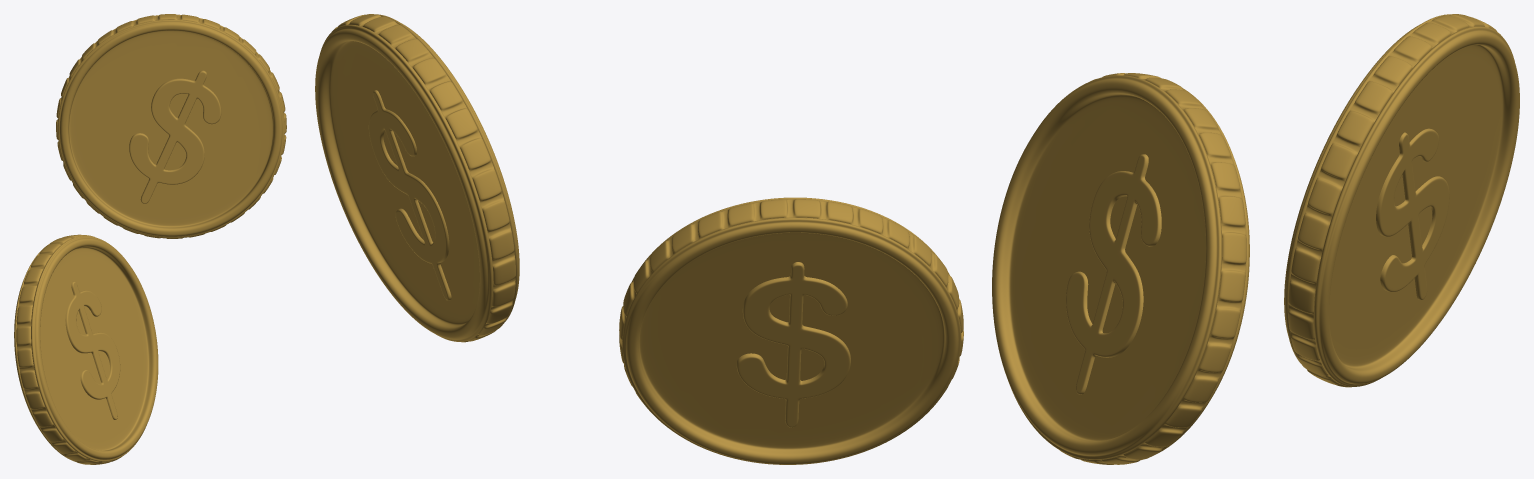
Rendered from two-coins-animated-3d-icon-465746645149.glb.
The picture shows the model from 3 angles, left to right: view 1: azimuth 30°, elevation 25°; view 2: azimuth 150°, elevation 25°; view 3: azimuth 270°, elevation 25°; orthographic projection. The views are drawn at different scales.
Parts seen in each view (by area): view 1: Coin.006, Coin.004, Dollar.002, Dollar.001; view 2: Coin.004, Coin.006, Dollar.001, Dollar.002; view 3: Coin.004, Coin.006, Dollar.001, Dollar.002.
Boxes of the visible parts, bbox=[...] form: Coin.006: bbox=[56, 14, 286, 238]; Coin.004: bbox=[14, 234, 158, 464]; Dollar.002: bbox=[129, 70, 221, 203]; Dollar.001: bbox=[65, 281, 120, 419]; Coin.004: bbox=[619, 197, 963, 464]; Coin.006: bbox=[315, 14, 519, 342]; Dollar.001: bbox=[736, 262, 850, 427]; Dollar.002: bbox=[368, 90, 451, 300]; Coin.004: bbox=[992, 73, 1249, 464]; Coin.006: bbox=[1284, 14, 1519, 387]; Dollar.001: bbox=[1066, 154, 1161, 394]; Dollar.002: bbox=[1376, 128, 1449, 299].
Bounding box in the file's own units: 2.15 × 1.93 × 1.66.
